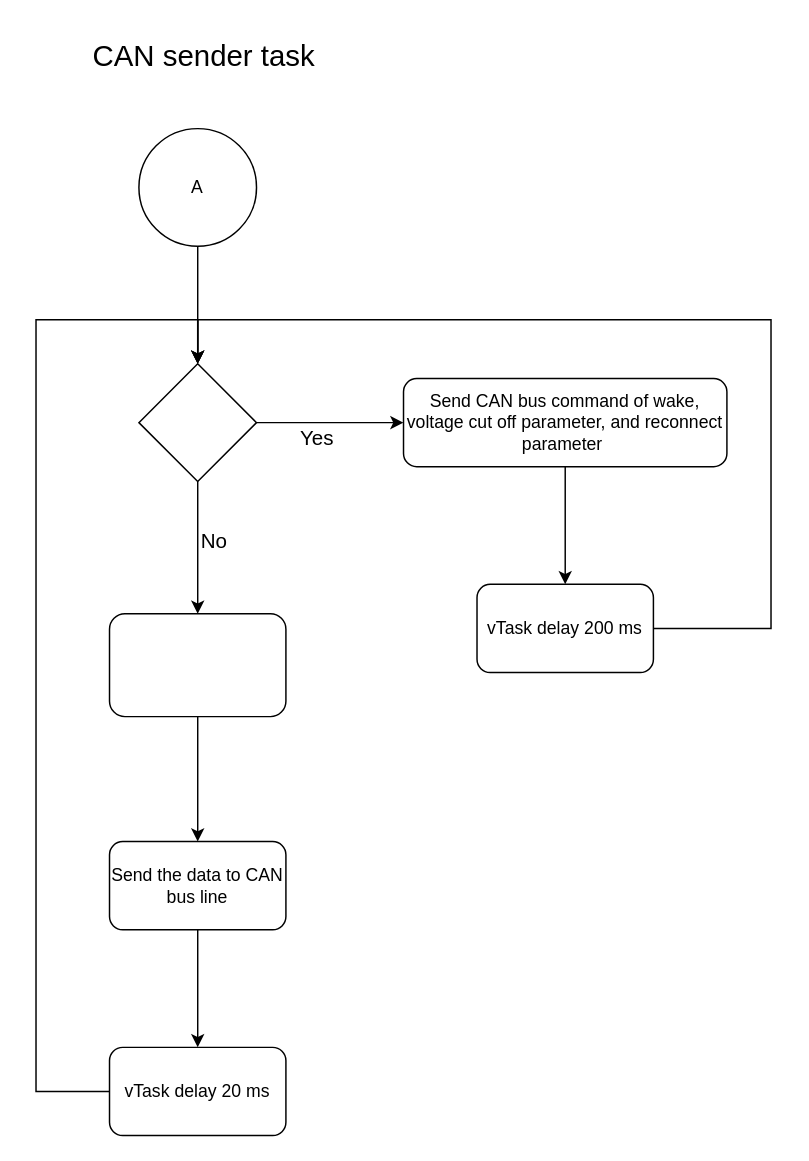
Image size: 809x1161. Some labels were removed from this diagram. The shapes that lost their labels are listed below. From the top down, each one's box as (x1, y1, x2, y2) in pixels, then its label:
(137, 362, 257, 481): is Queue empty?
(108, 612, 286, 717): Get data from queue
